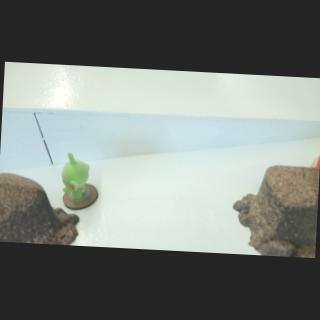teletubby: (62, 153, 89, 200), (311, 156, 320, 169)
